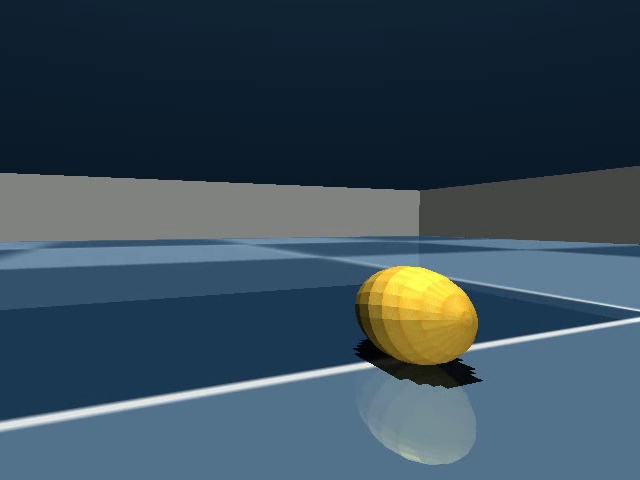lemon: (348, 259, 486, 380)
